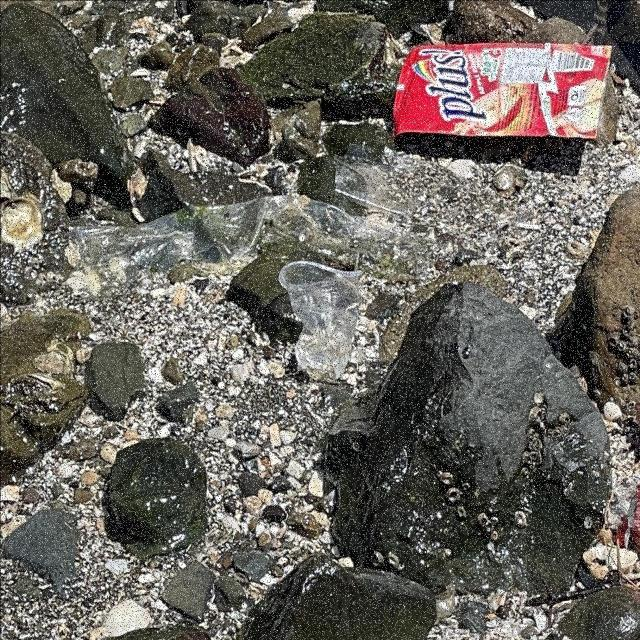plastic_waste: (387, 41, 613, 141), (280, 262, 365, 381)
